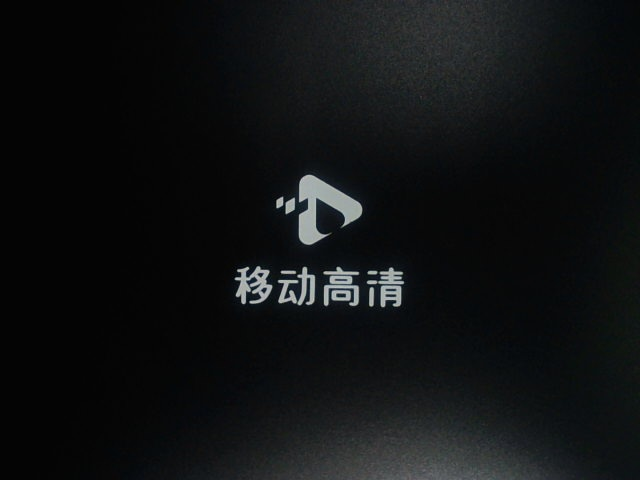AO_MobileHD: (199, 151, 438, 334)
